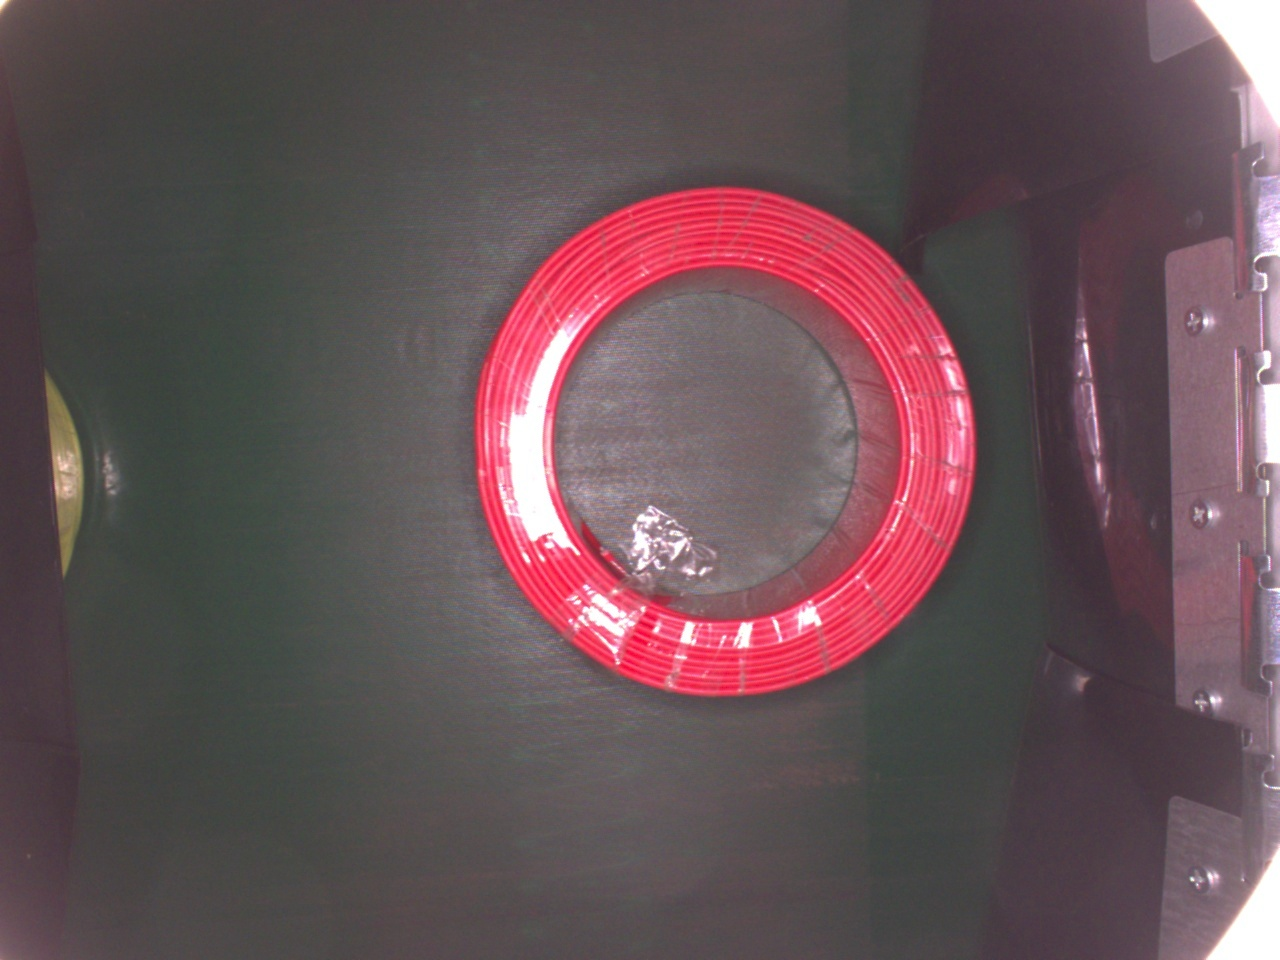red: (469, 185, 979, 697)
